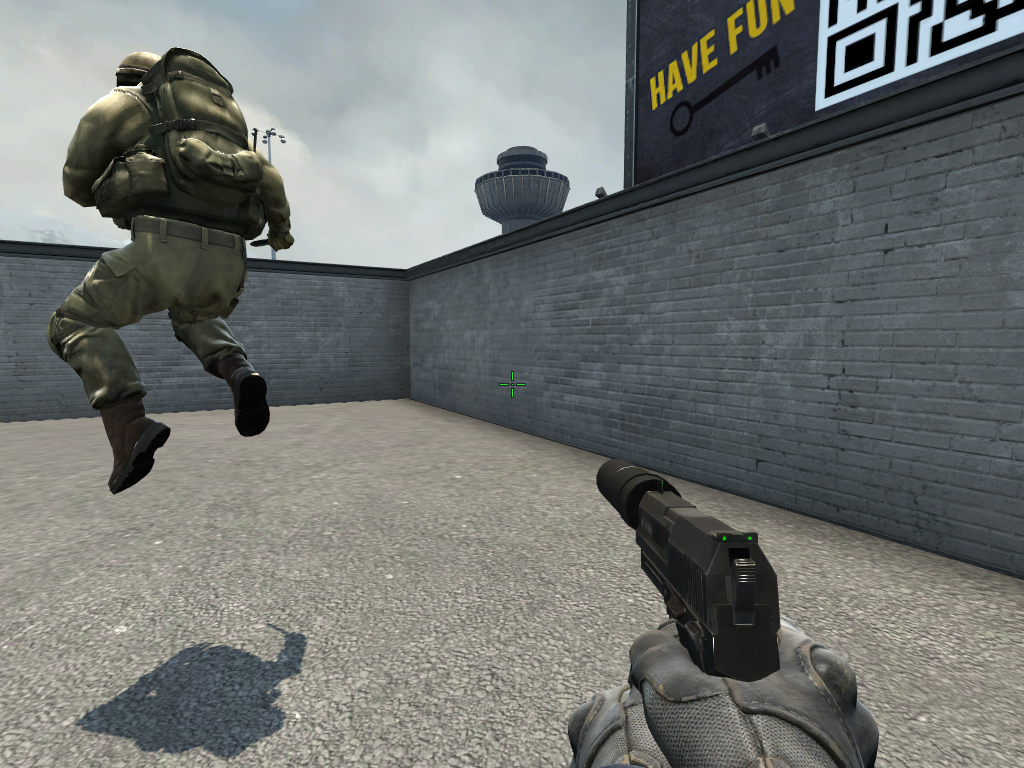ct head: (110, 44, 174, 102)
